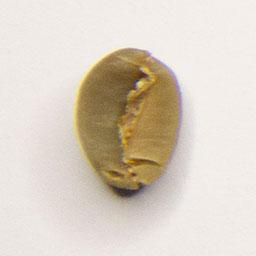premium: (71, 43, 186, 194)
